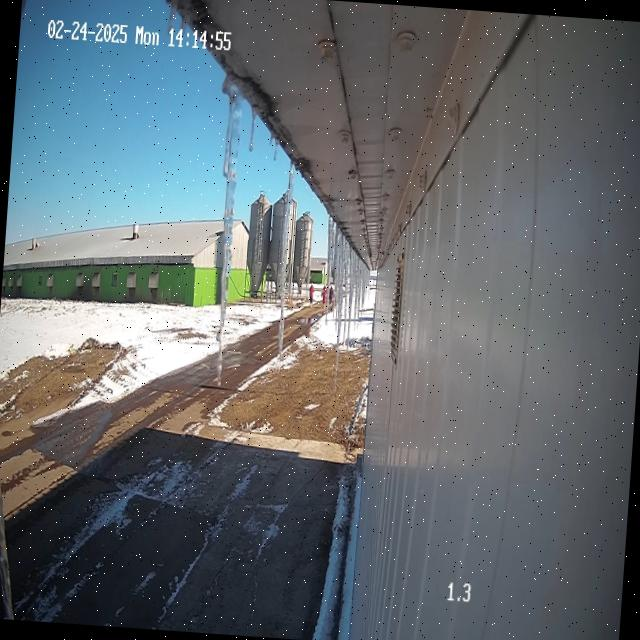Red uniform: (328, 281, 334, 310), (308, 281, 314, 306), (321, 285, 326, 307)
